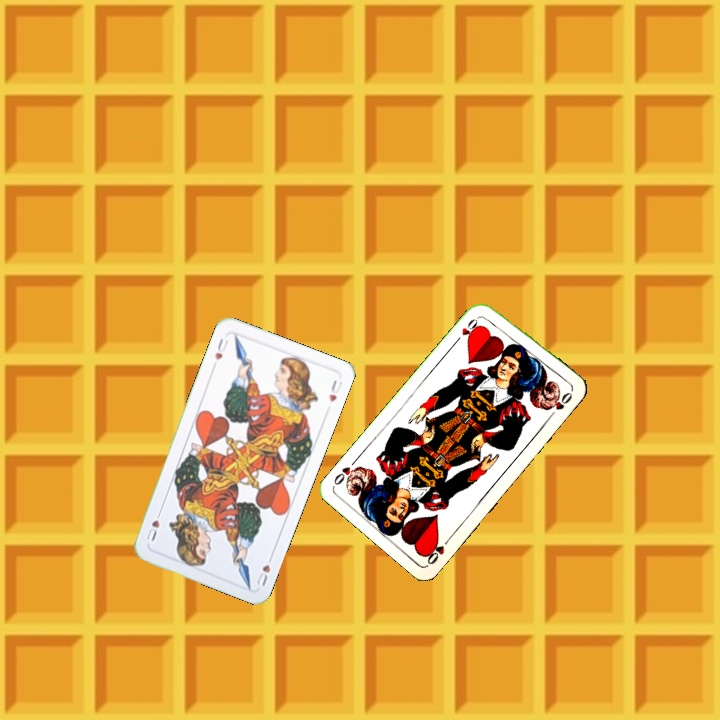HO: (421, 533, 453, 567), (452, 311, 484, 344)
HU: (253, 550, 276, 589), (211, 334, 231, 363)
